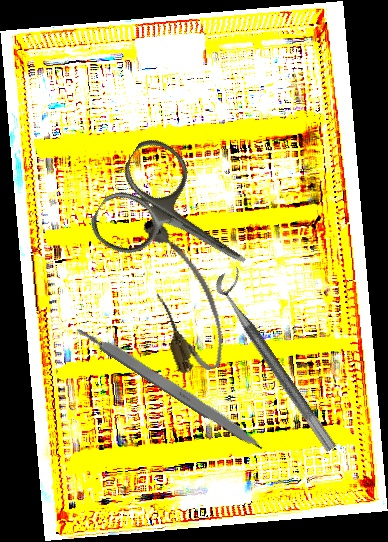Cannula: (132, 209, 234, 379)
Fixation Ring: (210, 265, 352, 453)
Iris Scissors: (83, 131, 276, 313)
Scalpel Handle: (73, 320, 268, 453)
